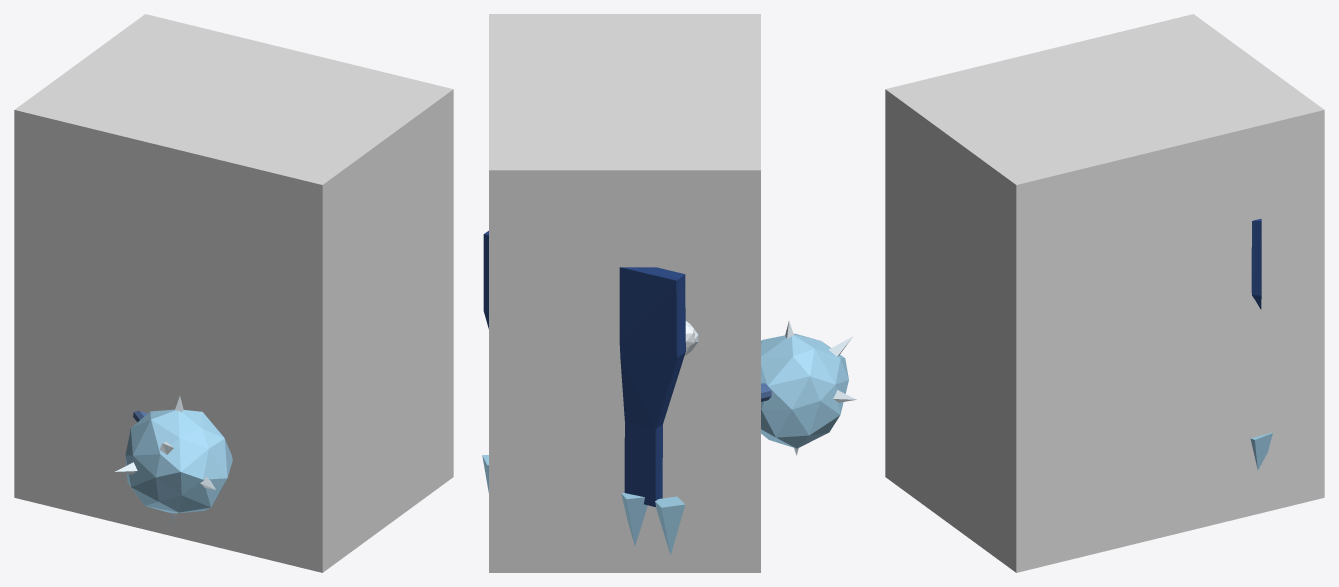
File: tundra_frost_king.fbx
3 views of the same model, side by side, from view 1: azimuth 30°, elevation 25°; view 2: azimuth 150°, elevation 25°; view 3: azimuth 270°, elevation 25° (orthographic). The views are drawn at different scales.
Parts seen in each view (by area): view 1: Root__0.76_9.00_-4.73__11.02_18.00_14.97, ArmR__Torso__2.93_10.02_0.00; view 2: Root__0.76_9.00_-4.73__11.02_18.00_14.97, Torso__Root__0.00_6.34_0.00, ArmR__Torso__2.93_10.02_0.00; view 3: Root__0.76_9.00_-4.73__11.02_18.00_14.97, Torso__Root__0.00_6.34_0.00.
Part boxes in pixels (<box>): Root__0.76_9.00_-4.73__11.02_18.00_14.97: <box>14,14,453,572</box>; ArmR__Torso__2.93_10.02_0.00: <box>115,396,232,525</box>; Root__0.76_9.00_-4.73__11.02_18.00_14.97: <box>489,14,760,572</box>; Torso__Root__0.00_6.34_0.00: <box>482,231,698,554</box>; ArmR__Torso__2.93_10.02_0.00: <box>683,321,856,455</box>; Root__0.76_9.00_-4.73__11.02_18.00_14.97: <box>885,14,1324,572</box>; Torso__Root__0.00_6.34_0.00: <box>1250,219,1272,469</box>.
Bounding box in the file's own units: 477 × 505 × 517.
Materials: 2 (1 with a texture image).
